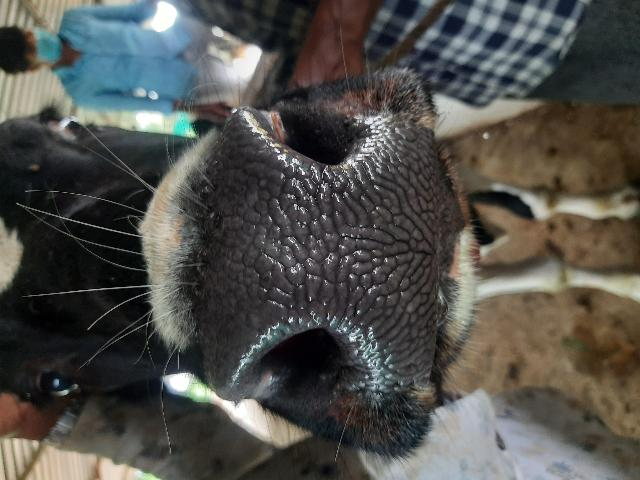Muzzle: (208, 127, 444, 387)
